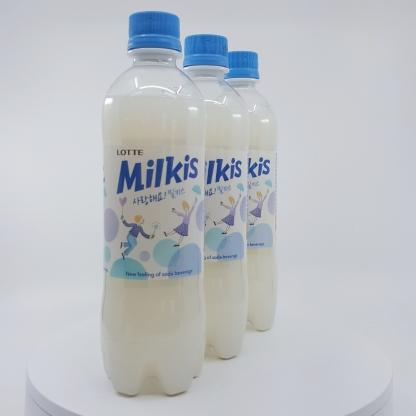-----500ML: (100, 11, 206, 396)
